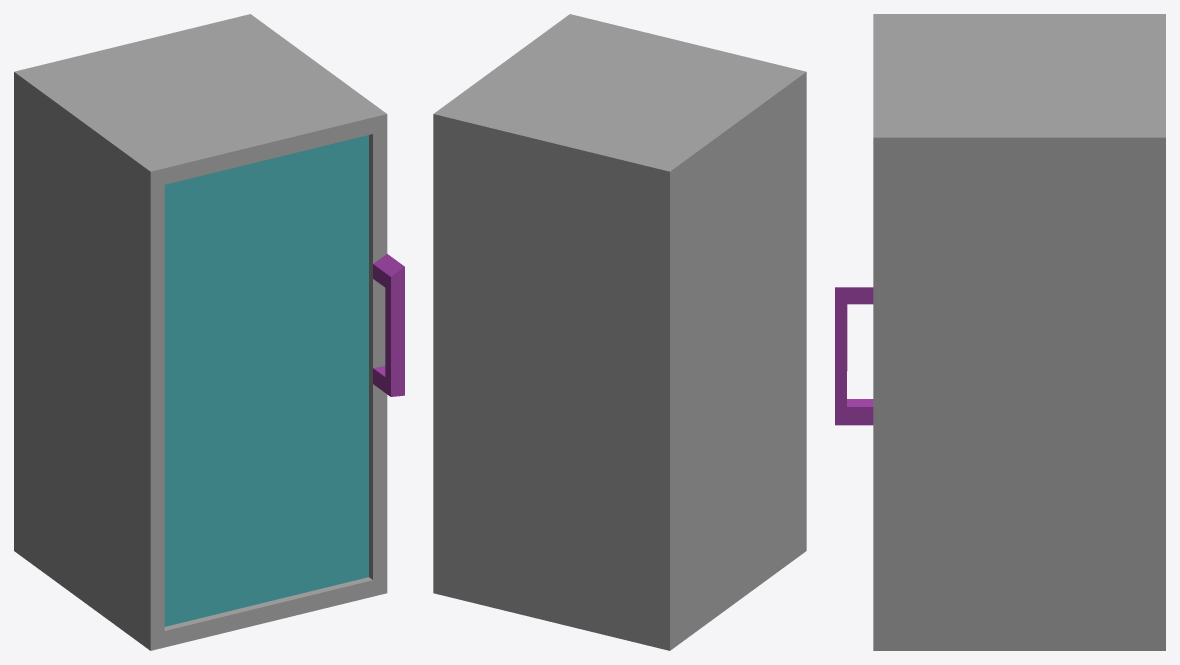
The model's file is Oven2.fbx.
The picture shows the model from 3 angles, left to right: view 1: azimuth 30°, elevation 25°; view 2: azimuth 150°, elevation 25°; view 3: azimuth 270°, elevation 25°; orthographic projection. The views are drawn at different scales.
Parts seen in each view (by area): view 1: pCube1; view 2: pCube1; view 3: pCube1.
Boxes of the visible parts, x1,y1,x2,y2 form: pCube1: (14, 14, 404, 650); pCube1: (433, 14, 806, 650); pCube1: (835, 14, 1165, 650).
Bounding box in the file's own units: 3.03 × 5.86 × 3.42.
